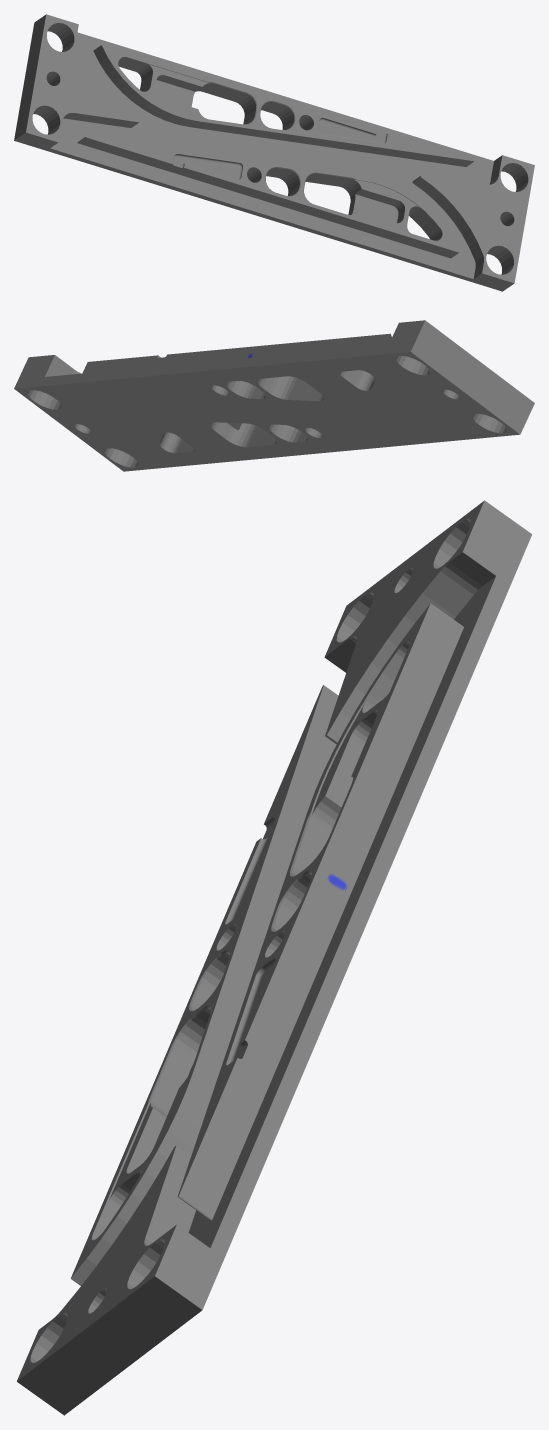
File: dwg1_1.glb
The picture shows the model from 3 angles, top to bottom: view 1: azimuth 30°, elevation 25°; view 2: azimuth 150°, elevation 25°; view 3: azimuth 270°, elevation 25°; orthographic projection. The views are drawn at different scales.
Parts seen in each view (by area): view 1: node_id3; view 2: node_id3; view 3: node_id3.
Boxes of the visible parts, x1=… form: node_id3: x1=14, y1=14, x2=534, y2=291; node_id3: x1=14, y1=320, x2=534, y2=471; node_id3: x1=17, y1=500, x2=531, y2=1415.
Bounding box in the file's own units: 0.5054 × 0.2997 × 0.2447.
1 material, 1 textured.
